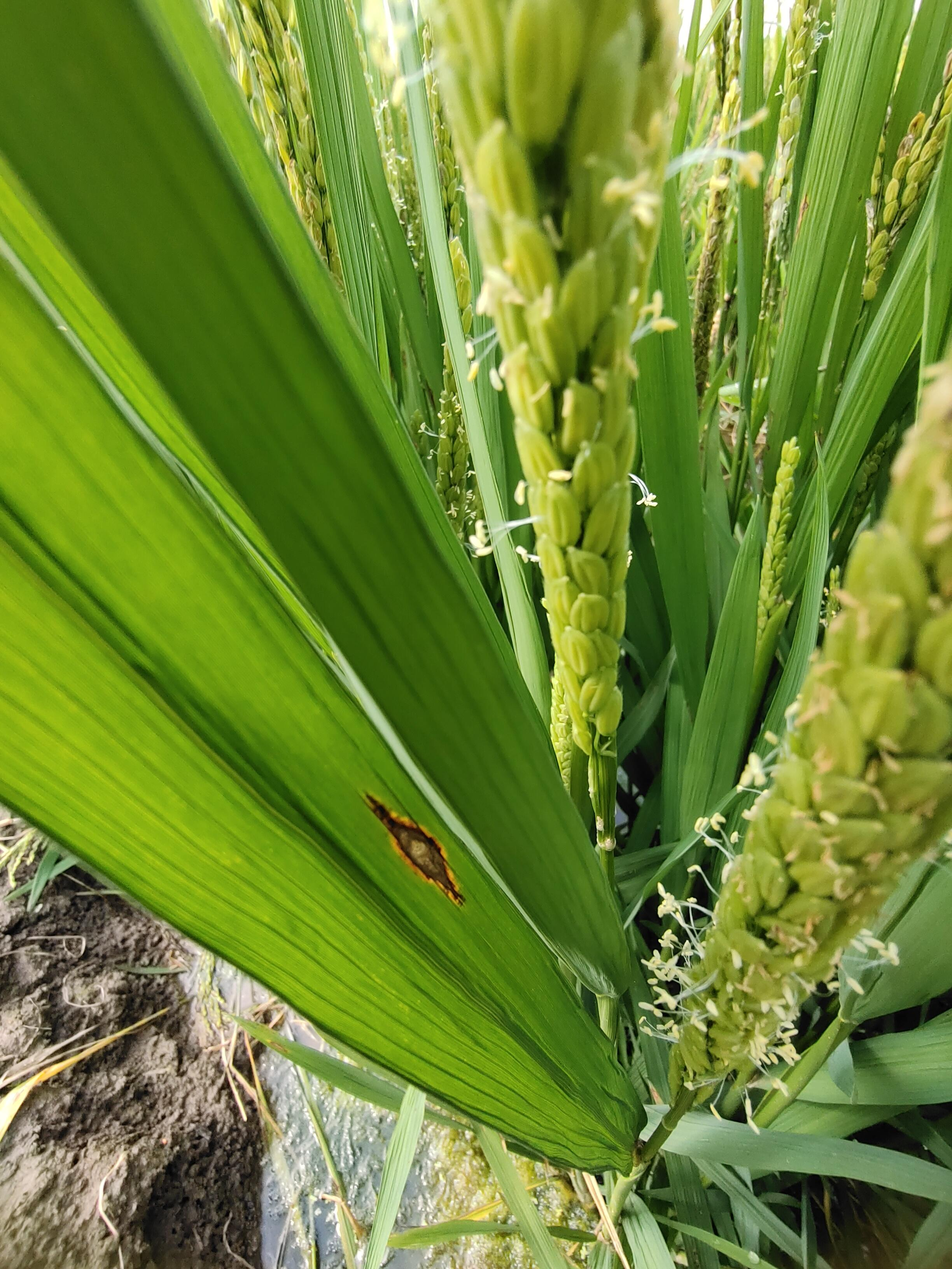LEAF BLAST: (365, 794, 464, 905)
